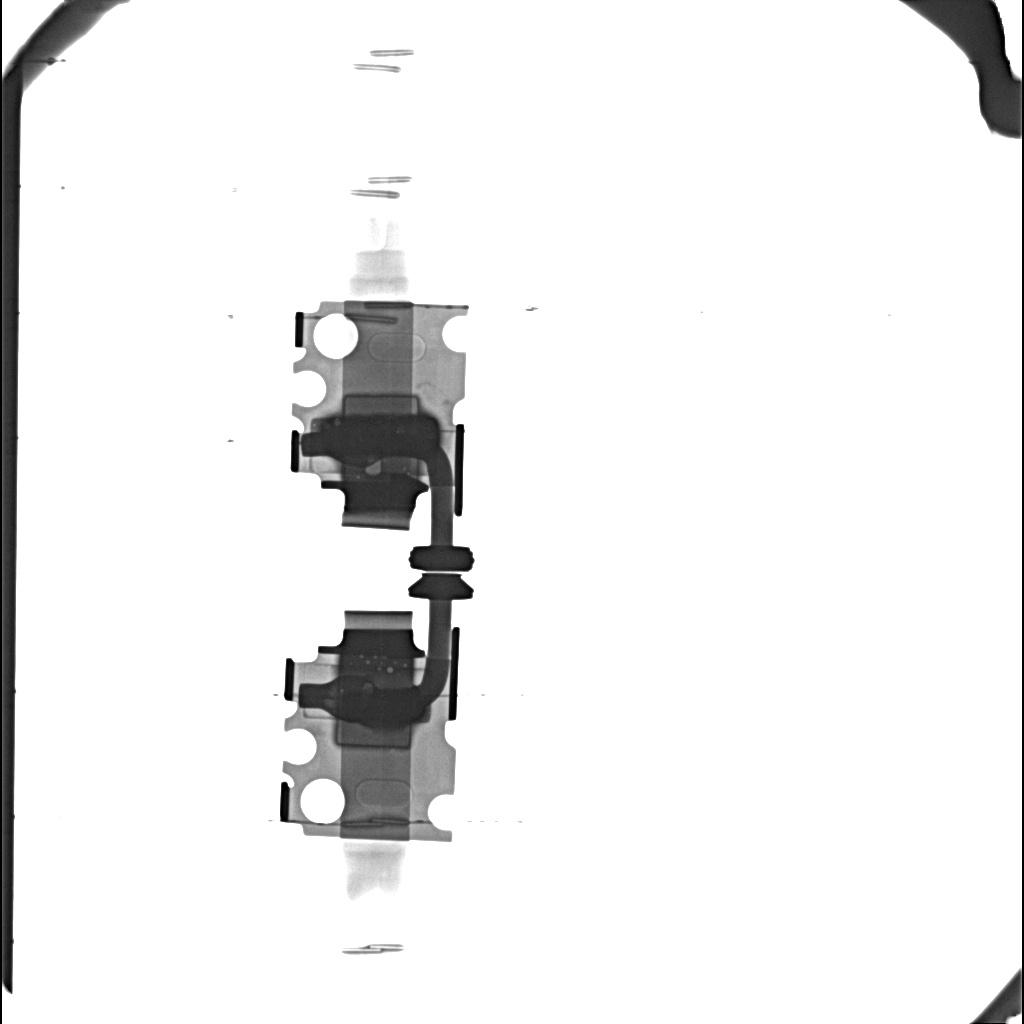PX: (335, 720, 411, 748), (342, 394, 419, 413)
QP: (365, 459, 382, 475), (387, 666, 394, 673)
SX: (320, 414, 438, 456), (335, 687, 424, 727)
